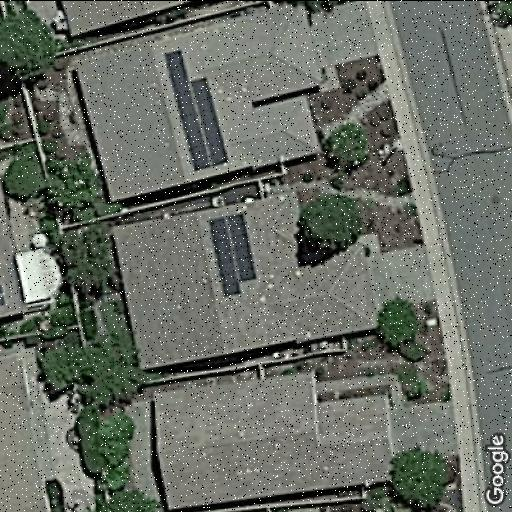solar-panel: (166, 45, 232, 169), (207, 212, 259, 298)
